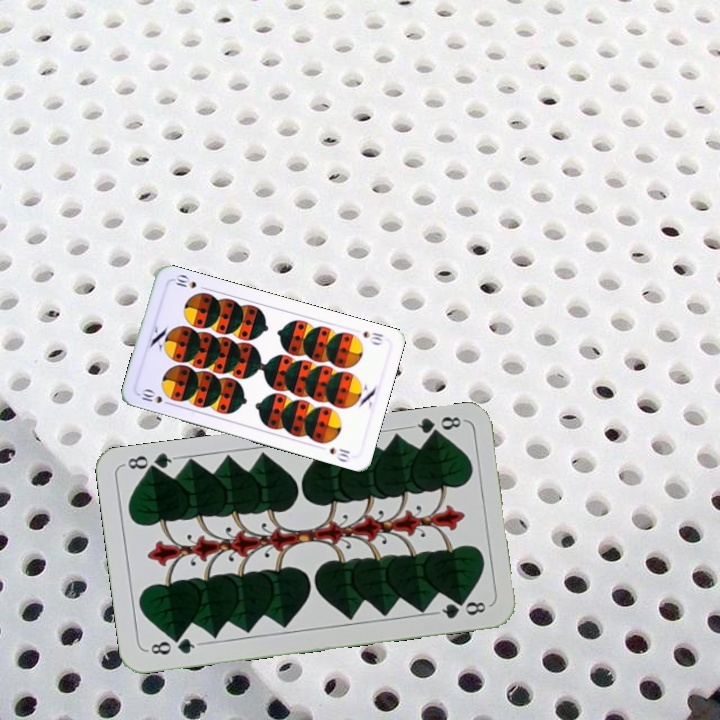G8: (407, 412, 466, 441), (143, 633, 202, 658)
S10: (135, 386, 175, 408), (359, 327, 386, 348)
